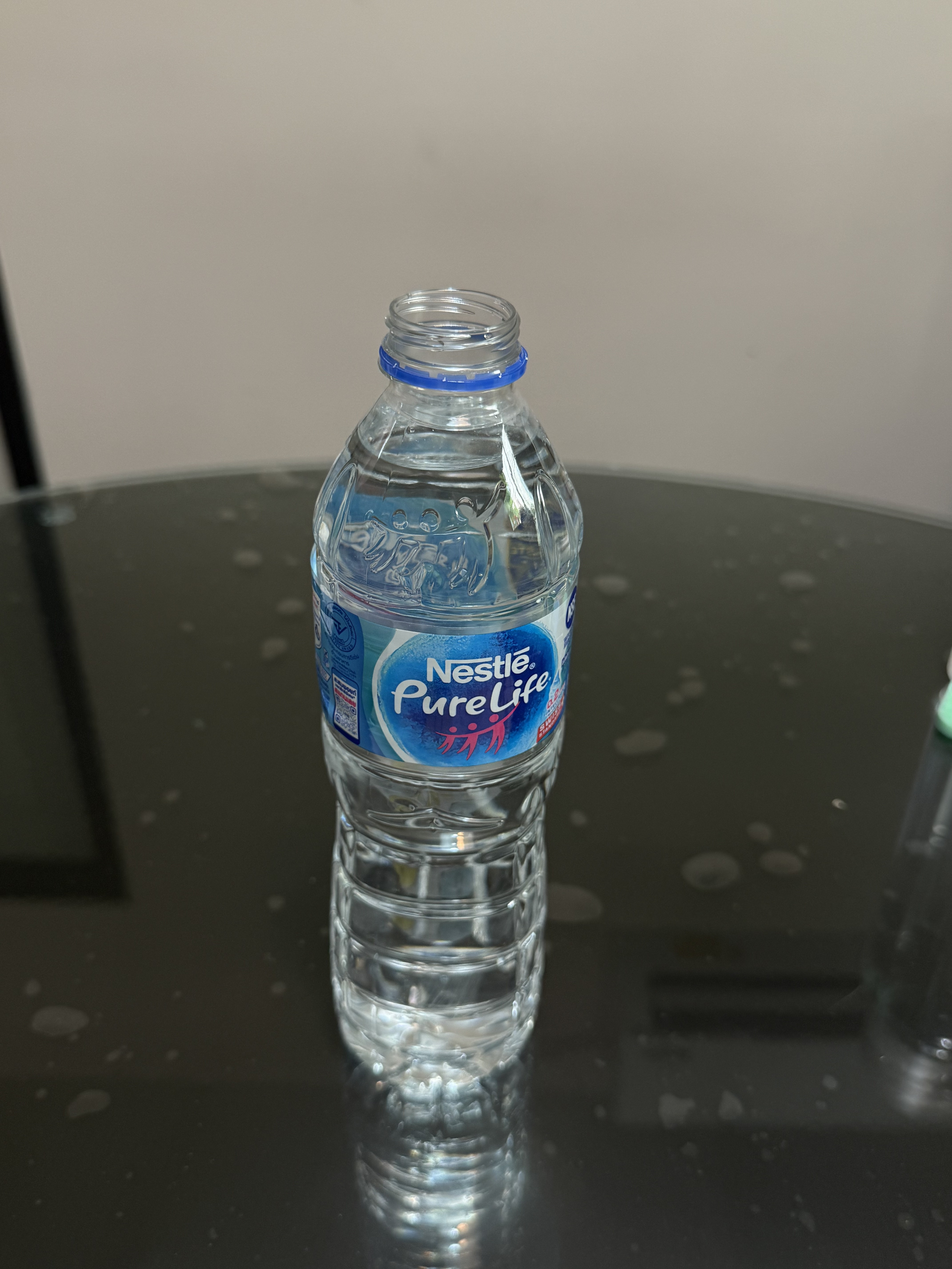no_cap: (377, 286, 529, 392)
